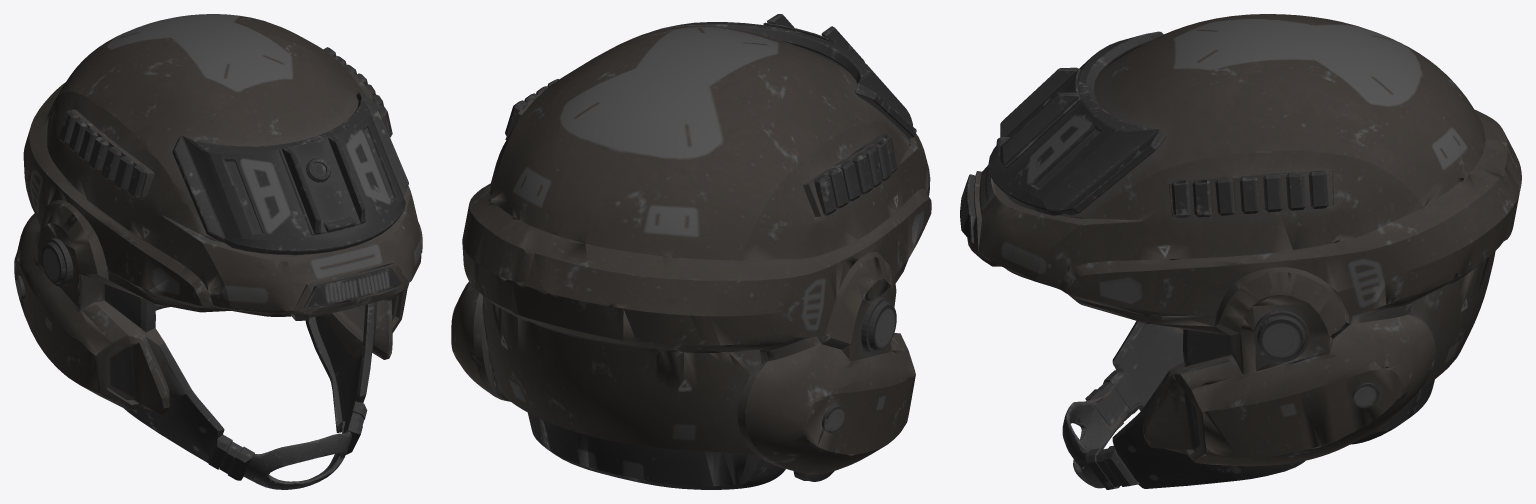
3 renders of one model, left to right at view 1: azimuth 30°, elevation 25°; view 2: azimuth 150°, elevation 25°; view 3: azimuth 270°, elevation 25°, orthographic. The views are drawn at different scales.
Visible parts, largest first — view 1: MarineHelm; view 2: MarineHelm; view 3: MarineHelm.
Part boxes in pixels (<box>): MarineHelm: <box>14,14,422,489</box>; MarineHelm: <box>451,14,931,489</box>; MarineHelm: <box>960,14,1521,489</box>.
Size of the model in its own units: 0.2274 by 0.254 by 0.2934.
